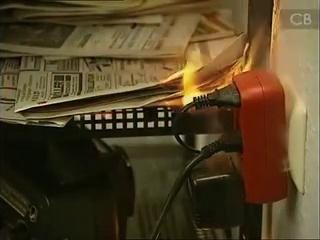Fire: (148, 1, 264, 119)
